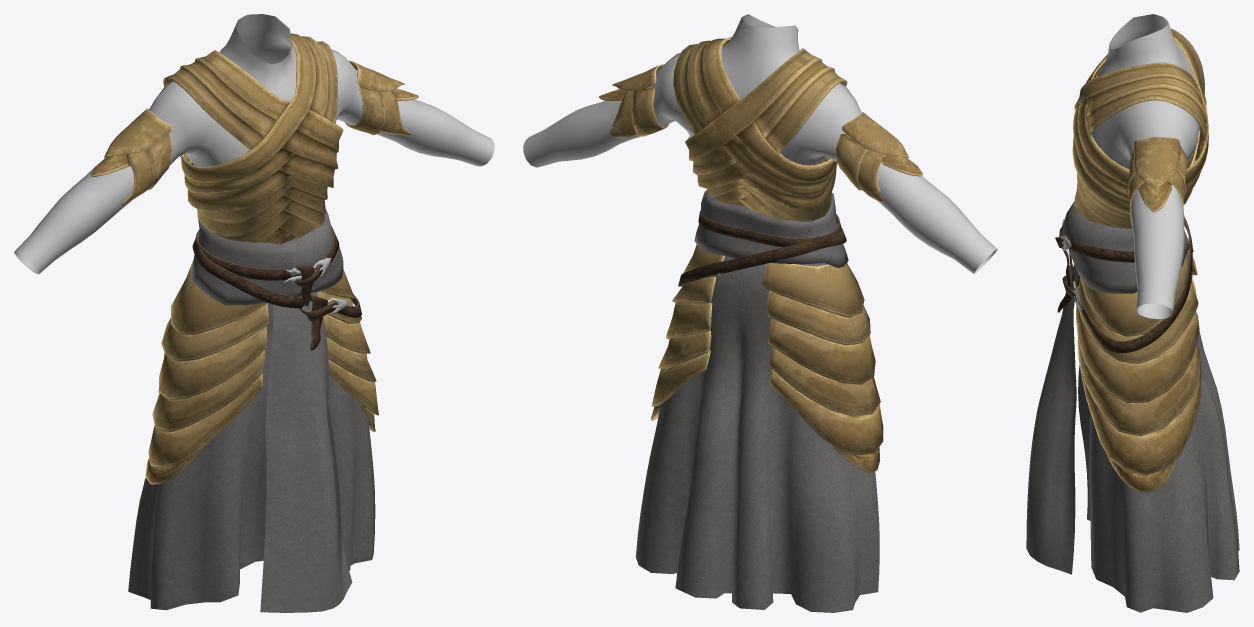
Rendered from rivendell_torso_infantry_tier4.fbx.
3 renders of one model, left to right at view 1: azimuth 30°, elevation 25°; view 2: azimuth 150°, elevation 25°; view 3: azimuth 270°, elevation 25°, orthographic. The views are drawn at different scales.
Visible parts, largest first — view 1: rivendell_torso_infantry_tier4.5, rivendell_torso_infantry_tier4.1, rivendell_torso_infantry_tier4.3, rivendell_torso_infantry_tier4.2, rivendell_torso_infantry_tier4.4, rivendell_torso_infantry_tier4.0; view 2: rivendell_torso_infantry_tier4.1, rivendell_torso_infantry_tier4.4, rivendell_torso_infantry_tier4.3, rivendell_torso_infantry_tier4.2, rivendell_torso_infantry_tier4.5, rivendell_torso_infantry_tier4.0; view 3: rivendell_torso_infantry_tier4.1, rivendell_torso_infantry_tier4.4, rivendell_torso_infantry_tier4.5, rivendell_torso_infantry_tier4.2, rivendell_torso_infantry_tier4.3, rivendell_torso_infantry_tier4.0.
Boxes of the visible parts, box(x1,y1,x2,y2) form: rivendell_torso_infantry_tier4.5: box(192, 209, 361, 612); rivendell_torso_infantry_tier4.1: box(128, 303, 375, 610); rivendell_torso_infantry_tier4.3: box(163, 33, 343, 280); rivendell_torso_infantry_tier4.2: box(14, 14, 494, 274); rivendell_torso_infantry_tier4.4: box(145, 261, 378, 484); rivendell_torso_infantry_tier4.0: box(91, 60, 418, 206); rivendell_torso_infantry_tier4.1: box(635, 256, 879, 612); rivendell_torso_infantry_tier4.4: box(651, 244, 883, 472); rivendell_torso_infantry_tier4.3: box(673, 36, 847, 264); rivendell_torso_infantry_tier4.2: box(523, 14, 997, 273); rivendell_torso_infantry_tier4.5: box(678, 190, 848, 286); rivendell_torso_infantry_tier4.0: box(599, 64, 922, 202); rivendell_torso_infantry_tier4.1: box(1078, 254, 1239, 612); rivendell_torso_infantry_tier4.4: box(1076, 237, 1201, 493); rivendell_torso_infantry_tier4.5: box(1026, 201, 1192, 574); rivendell_torso_infantry_tier4.2: box(1091, 14, 1199, 319); rivendell_torso_infantry_tier4.3: box(1072, 28, 1208, 228); rivendell_torso_infantry_tier4.0: box(1126, 136, 1187, 228).
Bounding box in the file's own units: 1.27 × 0.5129 × 1.44.
